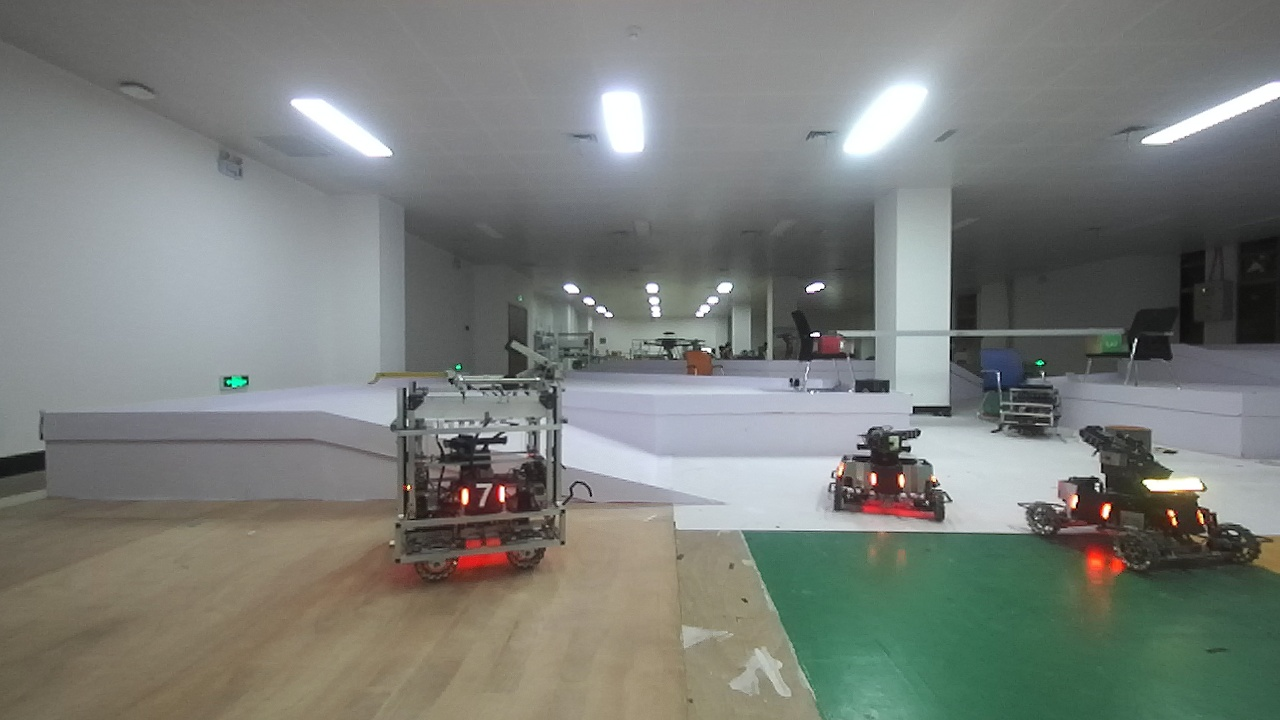car: (373, 368, 585, 584), (1028, 411, 1273, 584), (823, 420, 956, 529)
